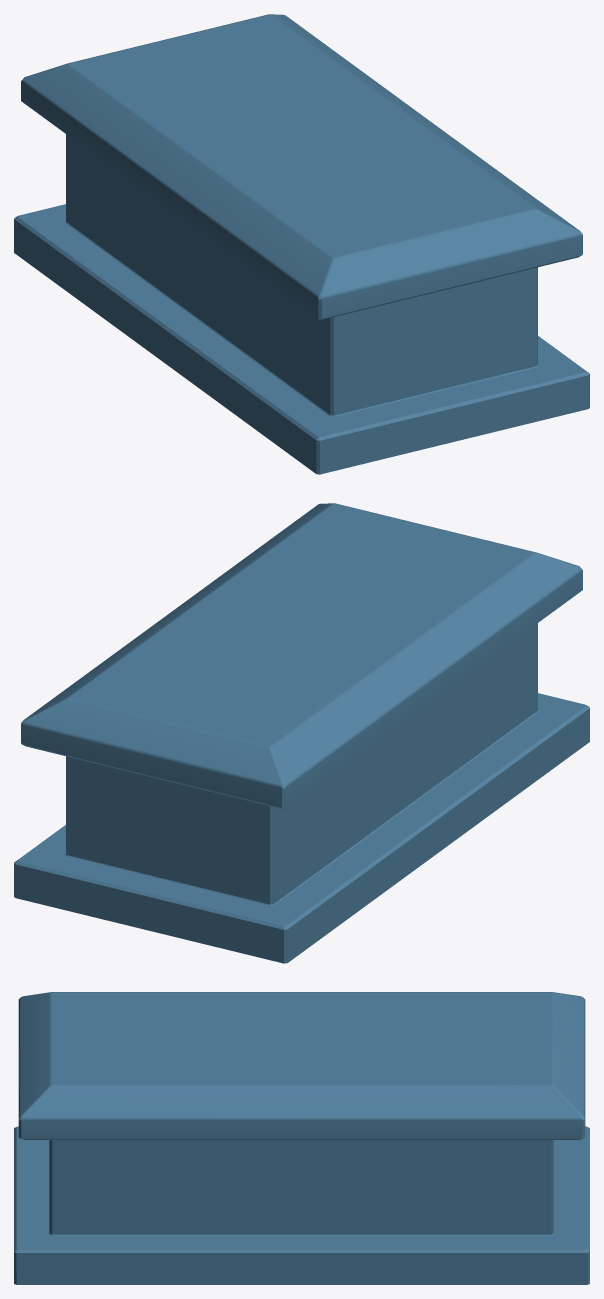
File: Cave_03.fbx
3 renders of one model, top to bottom at view 1: azimuth 30°, elevation 25°; view 2: azimuth 150°, elevation 25°; view 3: azimuth 270°, elevation 25°, orthographic. The views are drawn at different scales.
Visible parts, largest first — view 1: Cave_03; view 2: Cave_03; view 3: Cave_03.
Boxes of the visible parts, bbox=[...] form: Cave_03: bbox=[14, 14, 589, 474]; Cave_03: bbox=[14, 503, 589, 963]; Cave_03: bbox=[14, 992, 589, 1284].
Size of the model in its own units: 0.807 by 0.5475 by 1.56.
